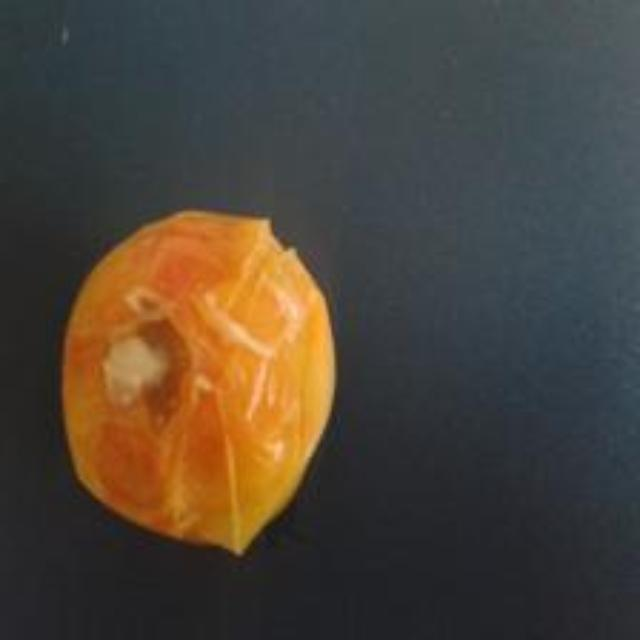defect: (51, 204, 354, 566)
